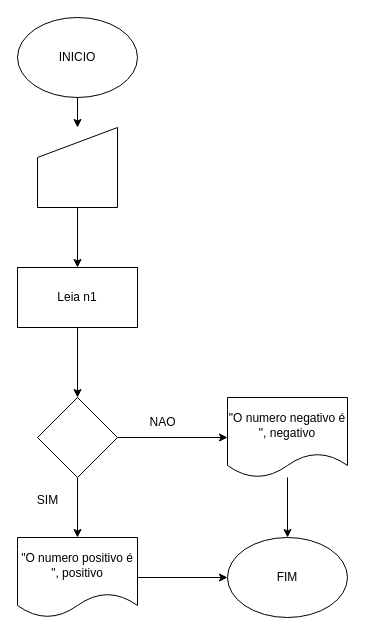
Image size: 365x635. Some labels were removed from this diagram. Each missing label, with the centre of its shape:
"Digite um número" goes at (x=77, y=167).
"n1 > 0" goes at (x=77, y=437).
